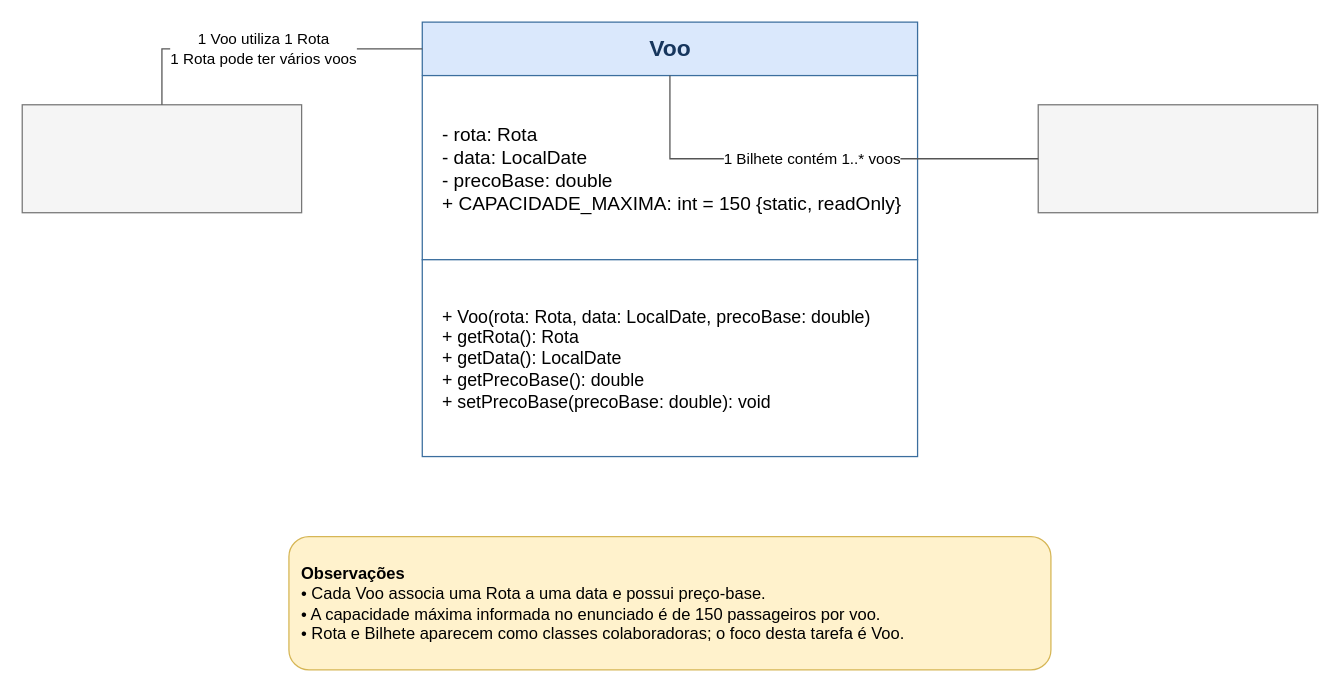
This 1340x692 diagram has some shape labels left out. Here are the shapes that lost their labels. From the top down, the centre of each, then its label:
At point 161,158: "Rota (origem, destino, código)".
At point 1177,158: "Bilhete (conjunto de voos)".
